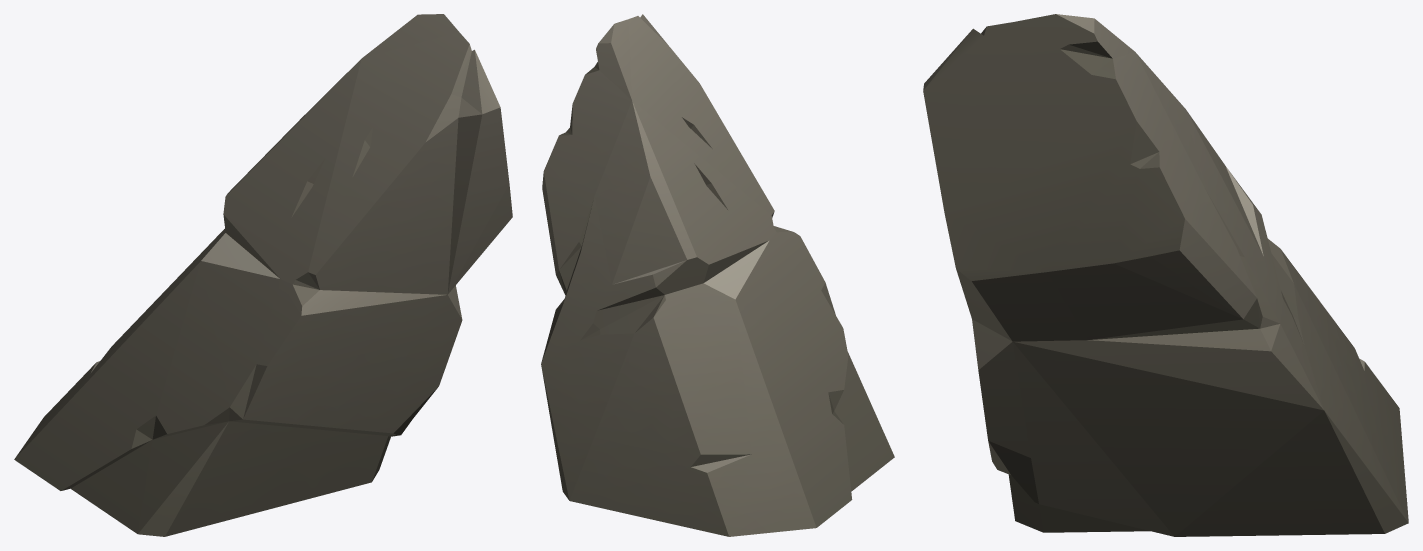
The model's file is Rock_Sharp_1B.fbx.
3 renders of one model, left to right at view 1: azimuth 30°, elevation 25°; view 2: azimuth 150°, elevation 25°; view 3: azimuth 270°, elevation 25°, orthographic. The views are drawn at different scales.
Parts seen in each view (by area): view 1: Rock_Sharp_1B; view 2: Rock_Sharp_1B; view 3: Rock_Sharp_1B.
Part boxes in pixels (x1,y1,x2,y2): Rock_Sharp_1B: (14,14,512,536); Rock_Sharp_1B: (541,14,894,536); Rock_Sharp_1B: (923,14,1408,536).
Bounding box in the file's own units: 6.36 × 7.18 × 5.62.
